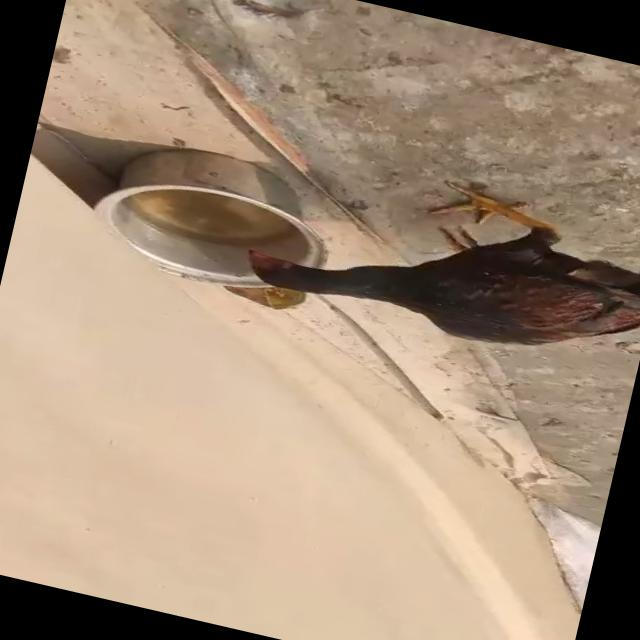drinking: (224, 127, 640, 411)
